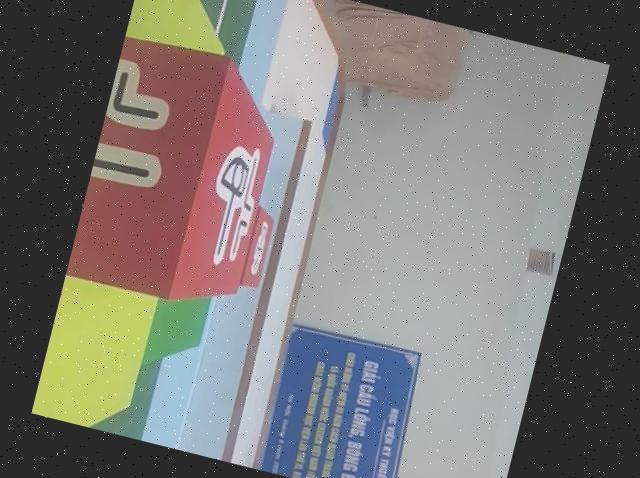R2 Real: (65, 29, 298, 318)
